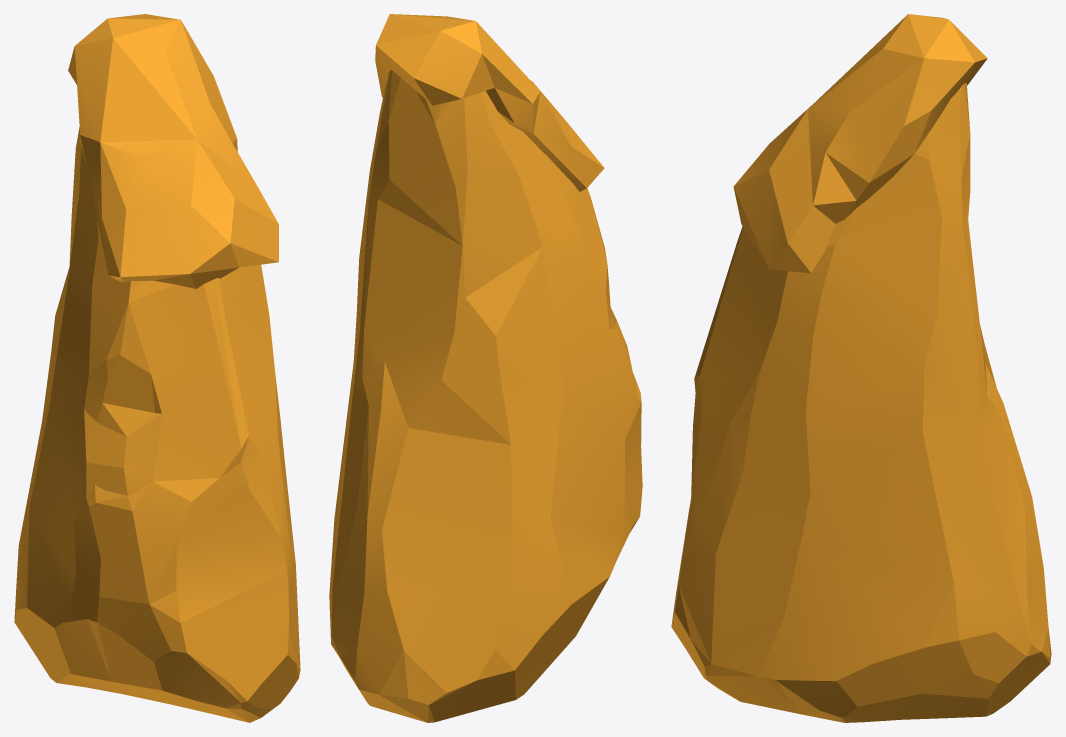
File: SM_Menhir_A_Snow.fbx
The picture shows the model from 3 angles, left to right: view 1: azimuth 30°, elevation 25°; view 2: azimuth 150°, elevation 25°; view 3: azimuth 270°, elevation 25°; orthographic projection. The views are drawn at different scales.
Visible parts, largest first — view 1: menhir-a-snow; view 2: menhir-a-snow; view 3: menhir-a-snow.
Boxes of the visible parts, left/top/right/bottom form: menhir-a-snow: left=14, top=14, right=300, bottom=722; menhir-a-snow: left=329, top=14, right=642, bottom=722; menhir-a-snow: left=671, top=14, right=1051, bottom=722.
Bounding box in the file's own units: 1.85 × 5.29 × 2.72.
